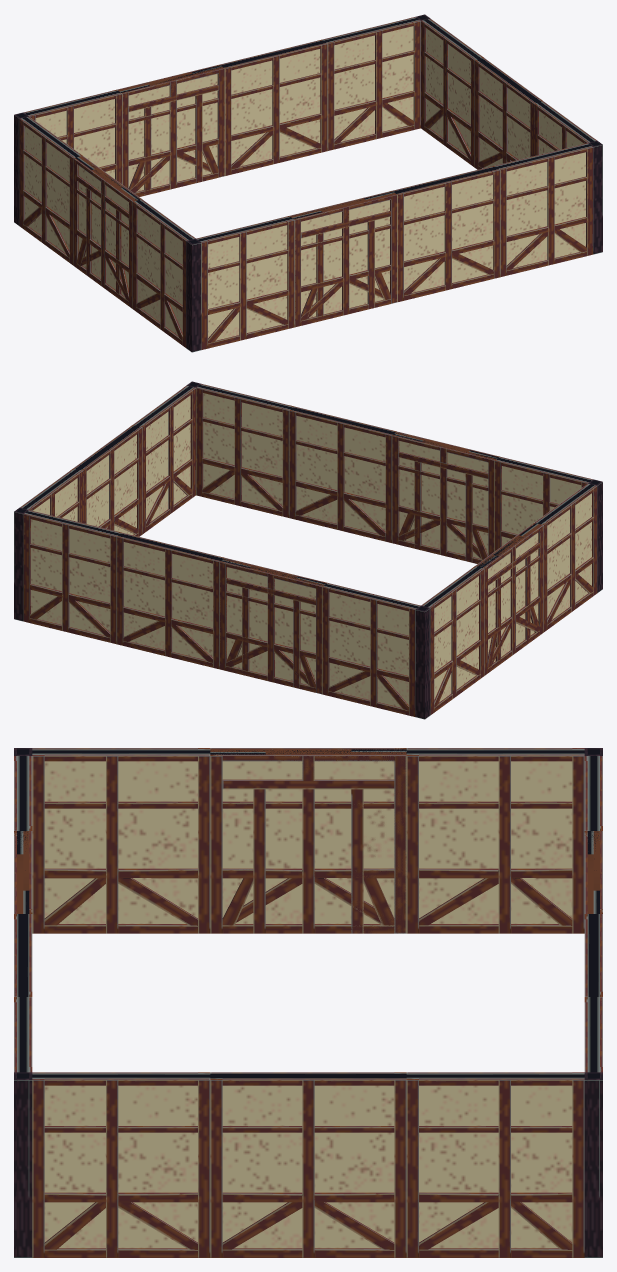
Rendered from Armory.fbx.
3 views of the same model, one above another, from view 1: azimuth 30°, elevation 25°; view 2: azimuth 150°, elevation 25°; view 3: azimuth 270°, elevation 25° (orthographic). The views are drawn at different scales.
Visible parts, largest first — view 1: ArmorySide.001, ArmorySide.002, ArmorySide.003, ArmorySide, ArmoryWall.002, ArmoryWall.001, ArmoryDoor.001, ArmoryDoor.002, ArmoryWall, ArmoryCorners, ArmoryDoor; view 2: ArmorySide.002, ArmorySide.001, ArmorySide.003, ArmorySide, ArmoryDoor.002, ArmoryWall.001, ArmoryWall.002, ArmoryDoor.001, ArmoryWall, ArmoryCorners, ArmoryDoor; view 3: ArmorySide.003, ArmorySide, ArmoryDoor, ArmoryWall, ArmoryCorners, ArmorySide.001, ArmorySide.002, ArmoryDoor.001, ArmoryDoor.002.
Part boxes in pixels (x1,y1,x2,y2): ArmorySide.001: [196, 143, 593, 349]; ArmorySide.002: [24, 17, 420, 184]; ArmorySide.003: [421, 18, 596, 169]; ArmorySide: [19, 116, 195, 347]; ArmoryWall.002: [118, 64, 223, 196]; ArmoryWall.001: [292, 191, 395, 327]; ArmoryDoor.001: [289, 191, 397, 326]; ArmoryDoor.002: [117, 65, 224, 196]; ArmoryWall: [73, 156, 140, 308]; ArmoryCorners: [14, 14, 602, 352]; ArmoryDoor: [73, 156, 141, 300]; ArmorySide.002: [23, 510, 420, 716]; ArmorySide.001: [196, 384, 592, 551]; ArmorySide.003: [20, 385, 195, 536]; ArmorySide: [421, 483, 597, 714]; ArmoryDoor.002: [220, 558, 326, 694]; ArmoryWall.001: [392, 431, 497, 560]; ArmoryWall.002: [219, 558, 327, 688]; ArmoryDoor.001: [392, 432, 499, 563]; ArmoryWall: [475, 524, 543, 675]; ArmoryCorners: [14, 381, 602, 719]; ArmoryDoor: [476, 523, 543, 675]; ArmorySide.003: [32, 1072, 584, 1257]; ArmorySide: [32, 748, 584, 933]; ArmoryDoor: [210, 748, 406, 933]; ArmoryWall: [210, 748, 406, 933]; ArmoryCorners: [14, 748, 602, 1257]; ArmorySide.001: [14, 756, 32, 1072]; ArmorySide.002: [584, 756, 602, 1072]; ArmoryDoor.001: [14, 831, 32, 913]; ArmoryDoor.002: [584, 831, 602, 913].
Size of the model in its own units: 16 by 12 by 4.
